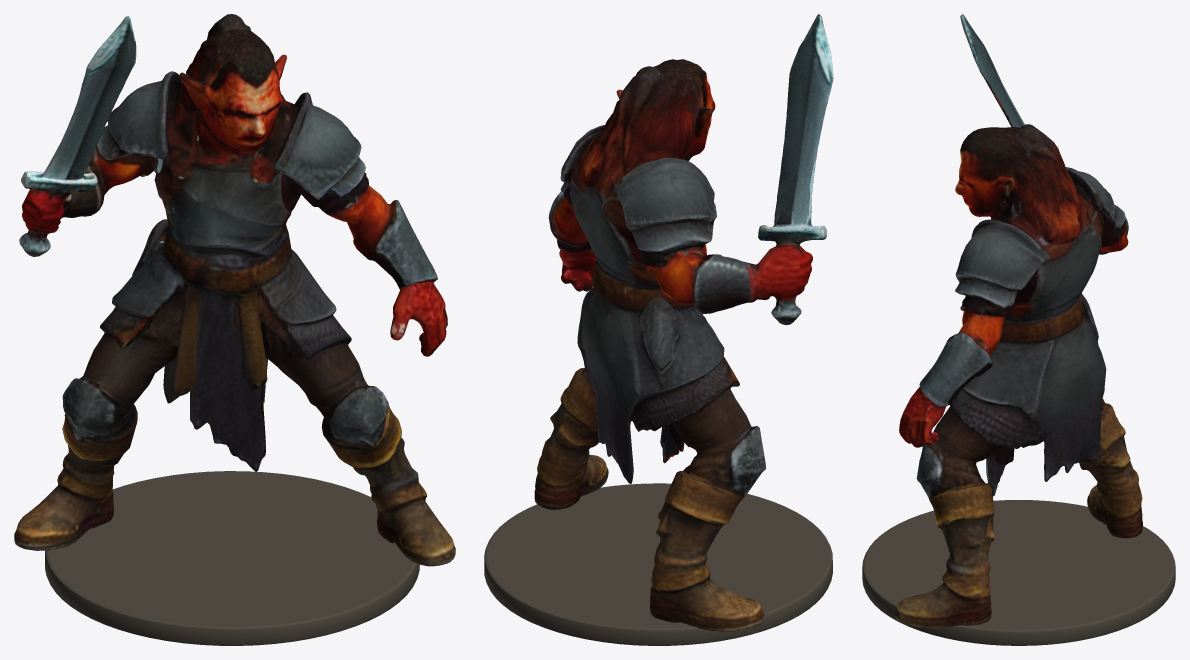
File: hobgoblin.glb
3 views of the same model, side by side, from view 1: azimuth 30°, elevation 25°; view 2: azimuth 150°, elevation 25°; view 3: azimuth 270°, elevation 25° (orthographic). The views are drawn at different scales.
Visible parts, largest first — view 1: hobgoblin_body, hobgoblin_round_base; view 2: hobgoblin_body, hobgoblin_round_base; view 3: hobgoblin_body, hobgoblin_round_base.
Boxes of the visible parts, <box> form: hobgoblin_body: <box>14,14,455,566</box>; hobgoblin_round_base: <box>45,471,419,645</box>; hobgoblin_body: <box>534,14,833,631</box>; hobgoblin_round_base: <box>484,483,832,645</box>; hobgoblin_body: <box>895,14,1142,628</box>; hobgoblin_round_base: <box>862,500,1175,645</box>.
Size of the model in its own units: 1.1 by 1.79 by 1.
Materials: 2 (1 with a texture image).
